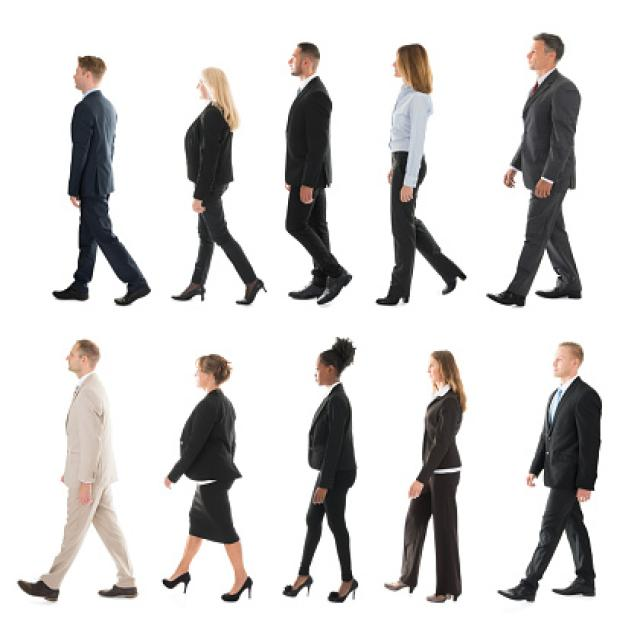Person: (16, 338, 137, 600), (498, 342, 600, 604), (486, 31, 582, 306), (54, 54, 150, 306), (376, 42, 465, 307), (170, 65, 268, 305), (163, 355, 253, 602), (384, 351, 464, 602), (283, 337, 357, 603), (286, 43, 352, 305)
